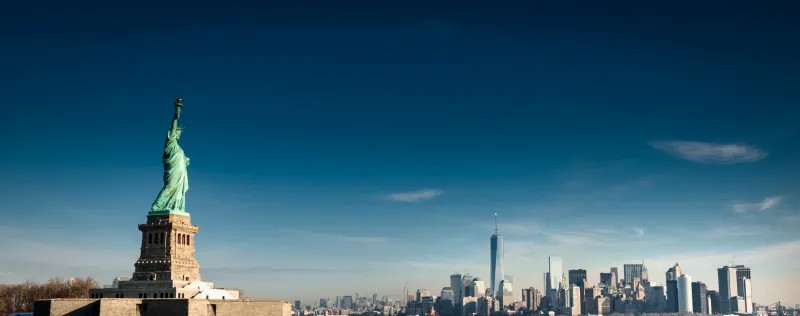SL: (129, 97, 201, 282)
